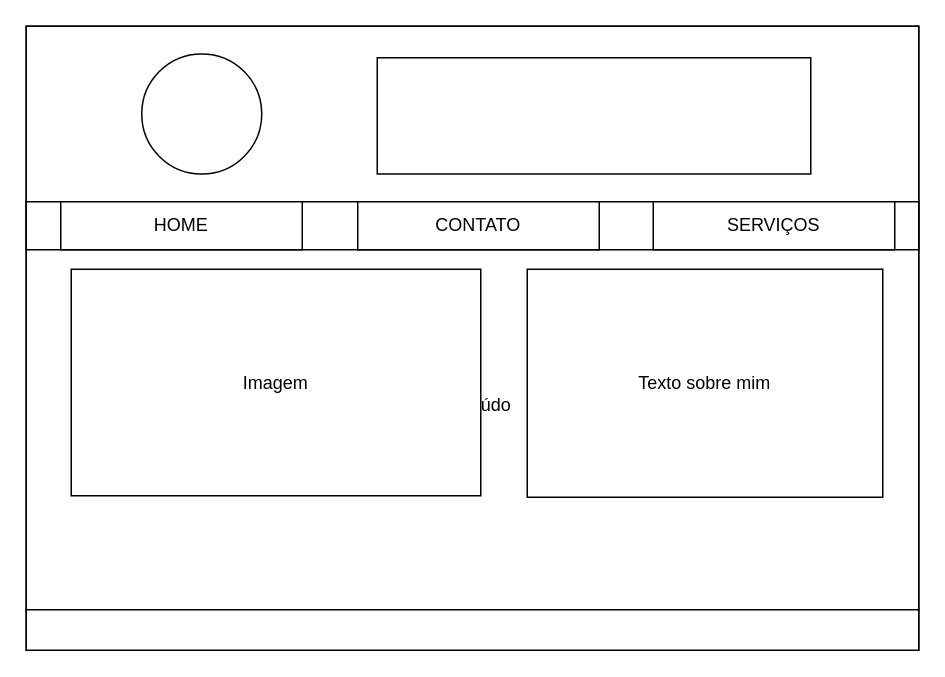
Some shapes in this 945 by 677 pixel diagram are drawn without their labels. The shapes that lost their labels are listed below. From the top down, each one's centre as x and y in pixels, then its label:
pixel 201 113: Foto
pixel 593 115: Nome
pixel 472 629: Rodapé
